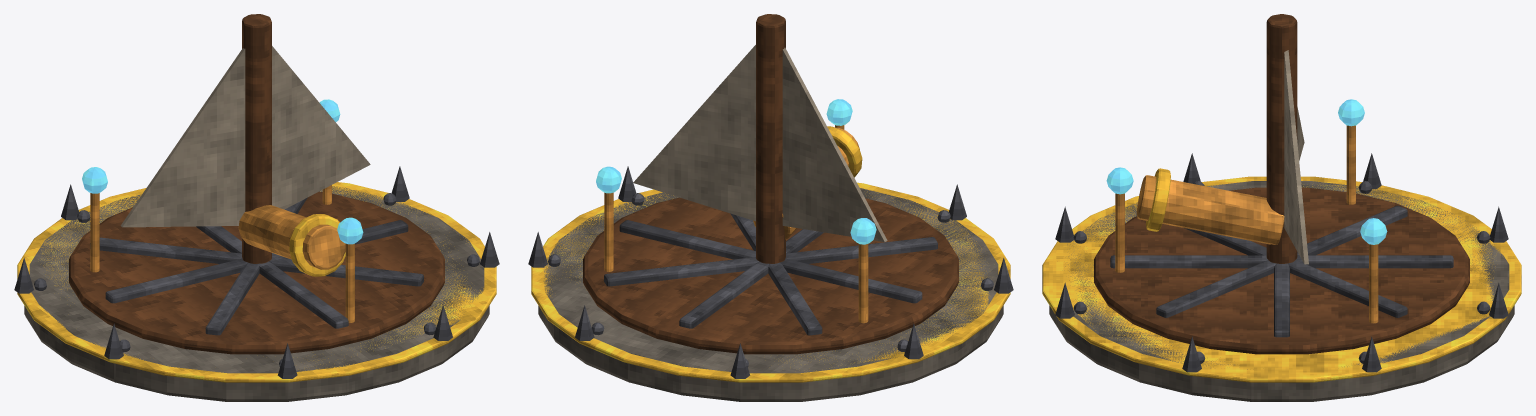
The model's file is weapon_storm.gltf.
3 renders of one model, left to right at view 1: azimuth 30°, elevation 25°; view 2: azimuth 150°, elevation 25°; view 3: azimuth 270°, elevation 25°, orthographic.
Visible parts, largest first — view 1: Crown_wood, Crown_stone, Crown_stone_lite, Tier4_gold, Crown_iron, Crown_brass, Tier3_iron, Crown_rune, Tier2_iron; view 2: Crown_wood, Crown_stone, Crown_stone_lite, Tier4_gold, Crown_iron, Tier3_iron, Crown_brass, Crown_rune, Tier2_iron; view 3: Crown_wood, Tier4_gold, Crown_stone, Crown_iron, Crown_brass, Crown_stone_lite, Tier3_iron, Crown_rune, Tier2_iron.
Boxes of the visible parts, left/top/right/bottom form: Crown_wood: left=69, top=14, right=444, bottom=354; Crown_stone: left=24, top=186, right=489, bottom=401; Crown_stone_lite: left=120, top=46, right=370, bottom=227; Tier4_gold: left=17, top=182, right=496, bottom=382; Crown_iron: left=90, top=197, right=423, bottom=335; Crown_brass: left=90, top=185, right=354, bottom=322; Tier3_iron: left=14, top=166, right=499, bottom=378; Crown_rune: left=82, top=99, right=363, bottom=244; Tier2_iron: left=34, top=193, right=479, bottom=366; Crown_wood: left=583, top=14, right=958, bottom=354; Crown_stone: left=538, top=188, right=1003, bottom=401; Crown_stone_lite: left=633, top=45, right=887, bottom=242; Tier4_gold: left=531, top=126, right=1010, bottom=382; Crown_iron: left=604, top=213, right=937, bottom=335; Tier3_iron: left=528, top=166, right=1013, bottom=378; Crown_brass: left=604, top=125, right=868, bottom=323; Crown_rune: left=596, top=99, right=876, bottom=244; Tier2_iron: left=548, top=193, right=993, bottom=366; Crown_wood: left=1094, top=14, right=1469, bottom=354; Tier4_gold: left=1042, top=168, right=1521, bottom=382; Crown_stone: left=1049, top=181, right=1514, bottom=401; Crown_iron: left=1110, top=205, right=1453, bottom=337; Crown_brass: left=1115, top=125, right=1378, bottom=323; Crown_stone_lite: left=1284, top=50, right=1308, bottom=264; Tier3_iron: left=1055, top=153, right=1508, bottom=372; Crown_rune: left=1106, top=99, right=1387, bottom=244; Tier2_iron: left=1073, top=181, right=1490, bottom=363.
Size of the model in its own units: 1.06 by 0.7 by 1.06.
Materials: 7 (7 with a texture image).
